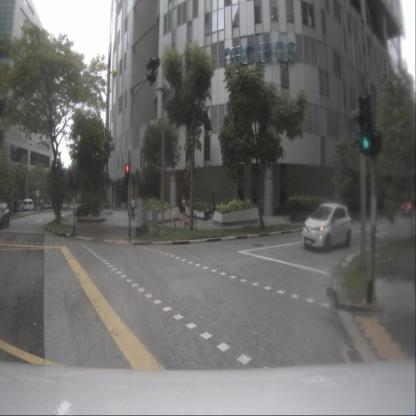human-pedestrian-adult: (130, 195, 135, 221), (182, 195, 186, 220)
vehicle-bicycle: (180, 211, 198, 230)
vehicle-car: (302, 202, 352, 252), (0, 202, 10, 228), (402, 198, 416, 216), (23, 198, 34, 212), (14, 200, 24, 212)
